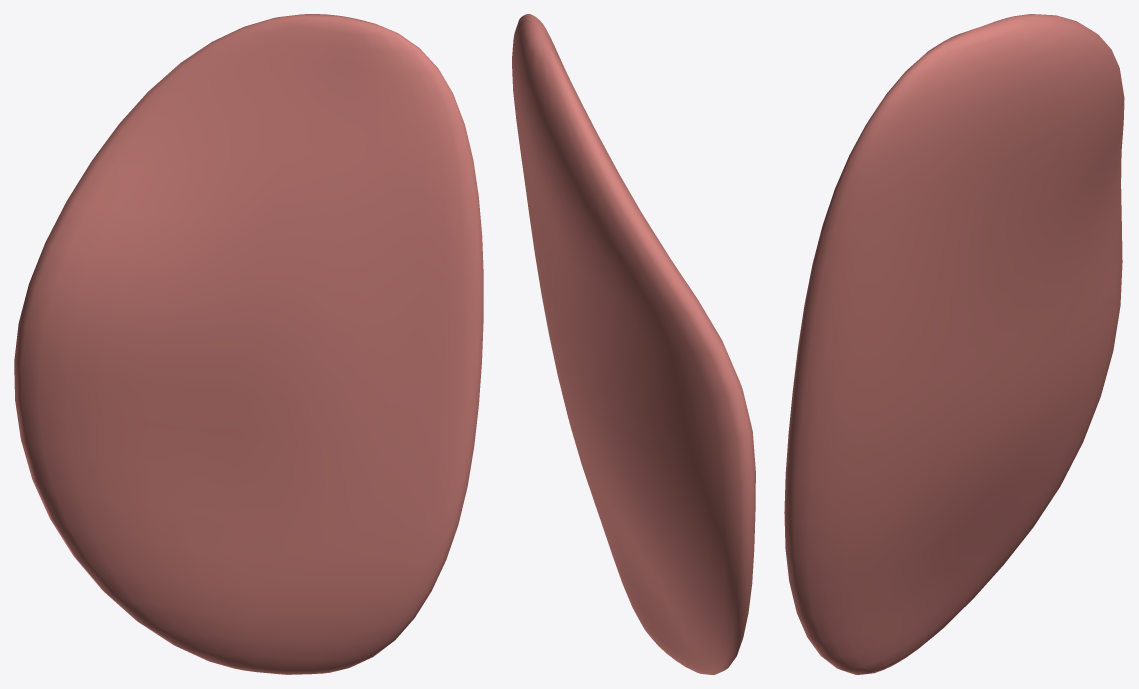
3 views of the same model, side by side, from view 1: azimuth 30°, elevation 25°; view 2: azimuth 150°, elevation 25°; view 3: azimuth 270°, elevation 25° (orthographic). The views are drawn at different scales.
Parts seen in each view (by area): view 1: ZA_950ab1ff94345249; view 2: ZA_950ab1ff94345249; view 3: ZA_950ab1ff94345249.
Boxes of the visible parts, x1,y1,x2,y2 form: ZA_950ab1ff94345249: [14, 14, 483, 674]; ZA_950ab1ff94345249: [512, 14, 755, 674]; ZA_950ab1ff94345249: [784, 14, 1124, 674].
Size of the model in its own units: 0.0175 by 0.03 by 0.0135.
